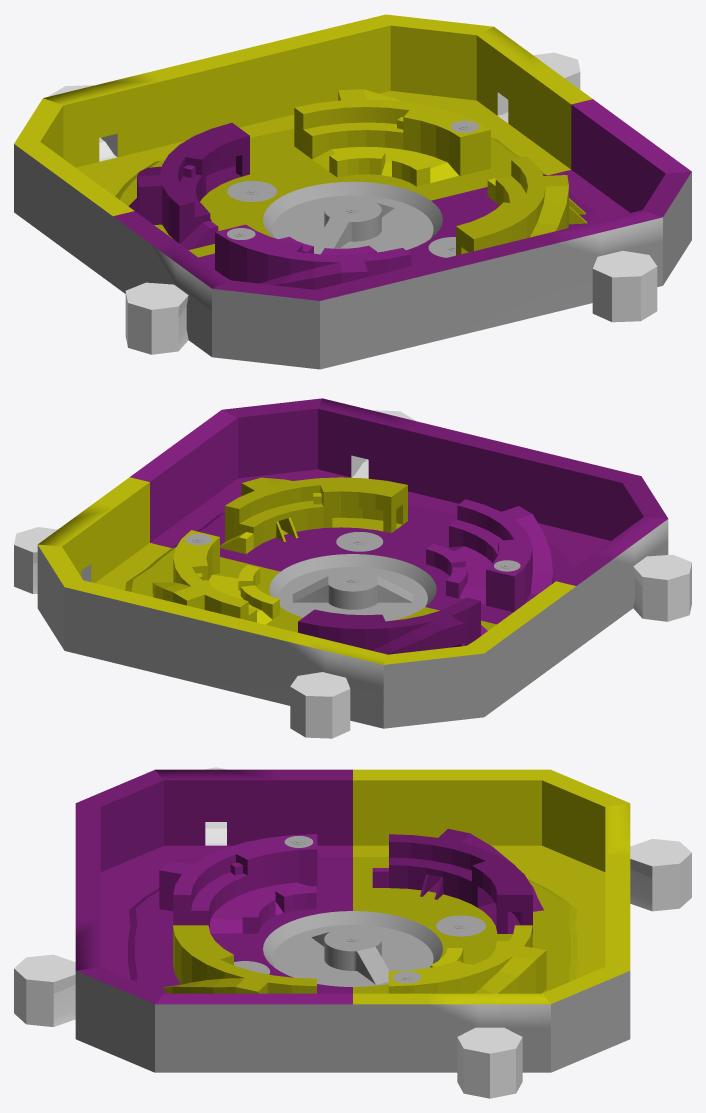
The model's file is whole level.fbx.
3 views of the same model, one above another, from view 1: azimuth 30°, elevation 25°; view 2: azimuth 150°, elevation 25°; view 3: azimuth 270°, elevation 25° (orthographic). The views are drawn at different scales.
Parts seen in each view (by area): view 1: South_wall_and_spawn, West_wall_and_spawn, North_wall_and_spawn, East_wall_and_spawn, courtyard_outer_2, courtyard_raised_light, courtyard_outer_7, courtyard_raised_neutral, courtyard_outer_5, courtyard_outer_8, floor_light, courtyard_cover2 (+6 smaller); view 2: North_wall_and_spawn, South_wall_and_spawn, West_wall_and_spawn, East_wall_and_spawn, courtyard_outer_8, courtyard_raised_dark, courtyard_outer_5, courtyard_outer_7, courtyard_raised_neutral, floor_dark, courtyard_outer_2, Center_platform_and_stair_2 (+5 smaller); view 3: East_wall_and_spawn, West_wall_and_spawn, South_wall_and_spawn, North_wall_and_spawn, courtyard_raised_light, courtyard_outer_7, courtyard_outer_5, courtyard_raised_dark, courtyard_raised_neutral, floor_light, floor_dark, courtyard_outer_2 (+4 smaller).
Boxes of the visible parts, x1=… form: South_wall_and_spawn: x1=315, y1=171, x2=691, y2=369; West_wall_and_spawn: x1=14, y1=142, x2=319, y2=369; North_wall_and_spawn: x1=14, y1=14, x2=390, y2=167; East_wall_and_spawn: x1=386, y1=14, x2=691, y2=212; courtyard_outer_2: x1=294, y1=89, x2=490, y2=175; courtyard_raised_light: x1=115, y1=129, x2=546, y2=257; courtyard_outer_7: x1=128, y1=122, x2=249, y2=243; courtyard_raised_neutral: x1=263, y1=181, x2=442, y2=254; courtyard_outer_5: x1=215, y1=224, x2=411, y2=289; courtyard_outer_8: x1=456, y1=156, x2=587, y2=255; floor_light: x1=76, y1=91, x2=570, y2=196; courtyard_cover2: x1=312, y1=147, x2=458, y2=186; North_wall_and_spawn: x1=64, y1=580, x2=484, y2=738; South_wall_and_spawn: x1=222, y1=398, x2=640, y2=540; West_wall_and_spawn: x1=468, y1=476, x2=691, y2=716; East_wall_and_spawn: x1=14, y1=410, x2=237, y2=650; courtyard_outer_8: x1=225, y1=477, x2=407, y2=548; courtyard_raised_dark: x1=172, y1=505, x2=574, y2=624; courtyard_outer_5: x1=449, y1=499, x2=553, y2=612; courtyard_outer_7: x1=298, y1=597, x2=480, y2=654; courtyard_raised_neutral: x1=269, y1=554, x2=436, y2=621; floor_dark: x1=150, y1=469, x2=610, y2=567; courtyard_outer_2: x1=152, y1=530, x2=256, y2=622; Center_platform_and_stair_2: x1=292, y1=569, x2=413, y2=609; East_wall_and_spawn: x1=155, y1=967, x2=630, y2=1098; West_wall_and_spawn: x1=76, y1=767, x2=550, y2=871; South_wall_and_spawn: x1=14, y1=803, x2=163, y2=1072; North_wall_and_spawn: x1=542, y1=770, x2=691, y2=970; courtyard_raised_light: x1=353, y1=857, x2=577, y2=993; courtyard_outer_7: x1=389, y1=828, x2=543, y2=933; courtyard_outer_5: x1=159, y1=834, x2=317, y2=928; courtyard_raised_dark: x1=128, y1=857, x2=352, y2=993; courtyard_raised_neutral: x1=263, y1=911, x2=442, y2=986; floor_light: x1=353, y1=845, x2=605, y2=978; floor_dark: x1=100, y1=845, x2=352, y2=978; courtyard_outer_2: x1=388, y1=925, x2=546, y2=993.
Size of the model in its own units: 188 by 22 by 188.
